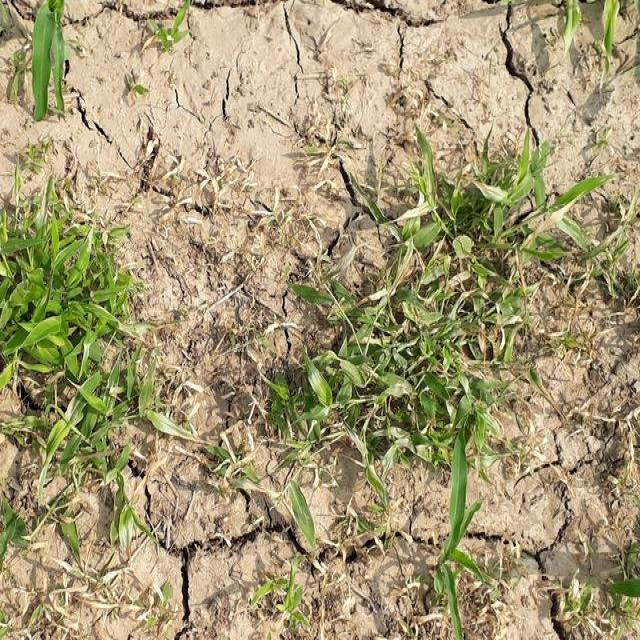weed: (278, 161, 568, 463), (0, 192, 141, 477)
